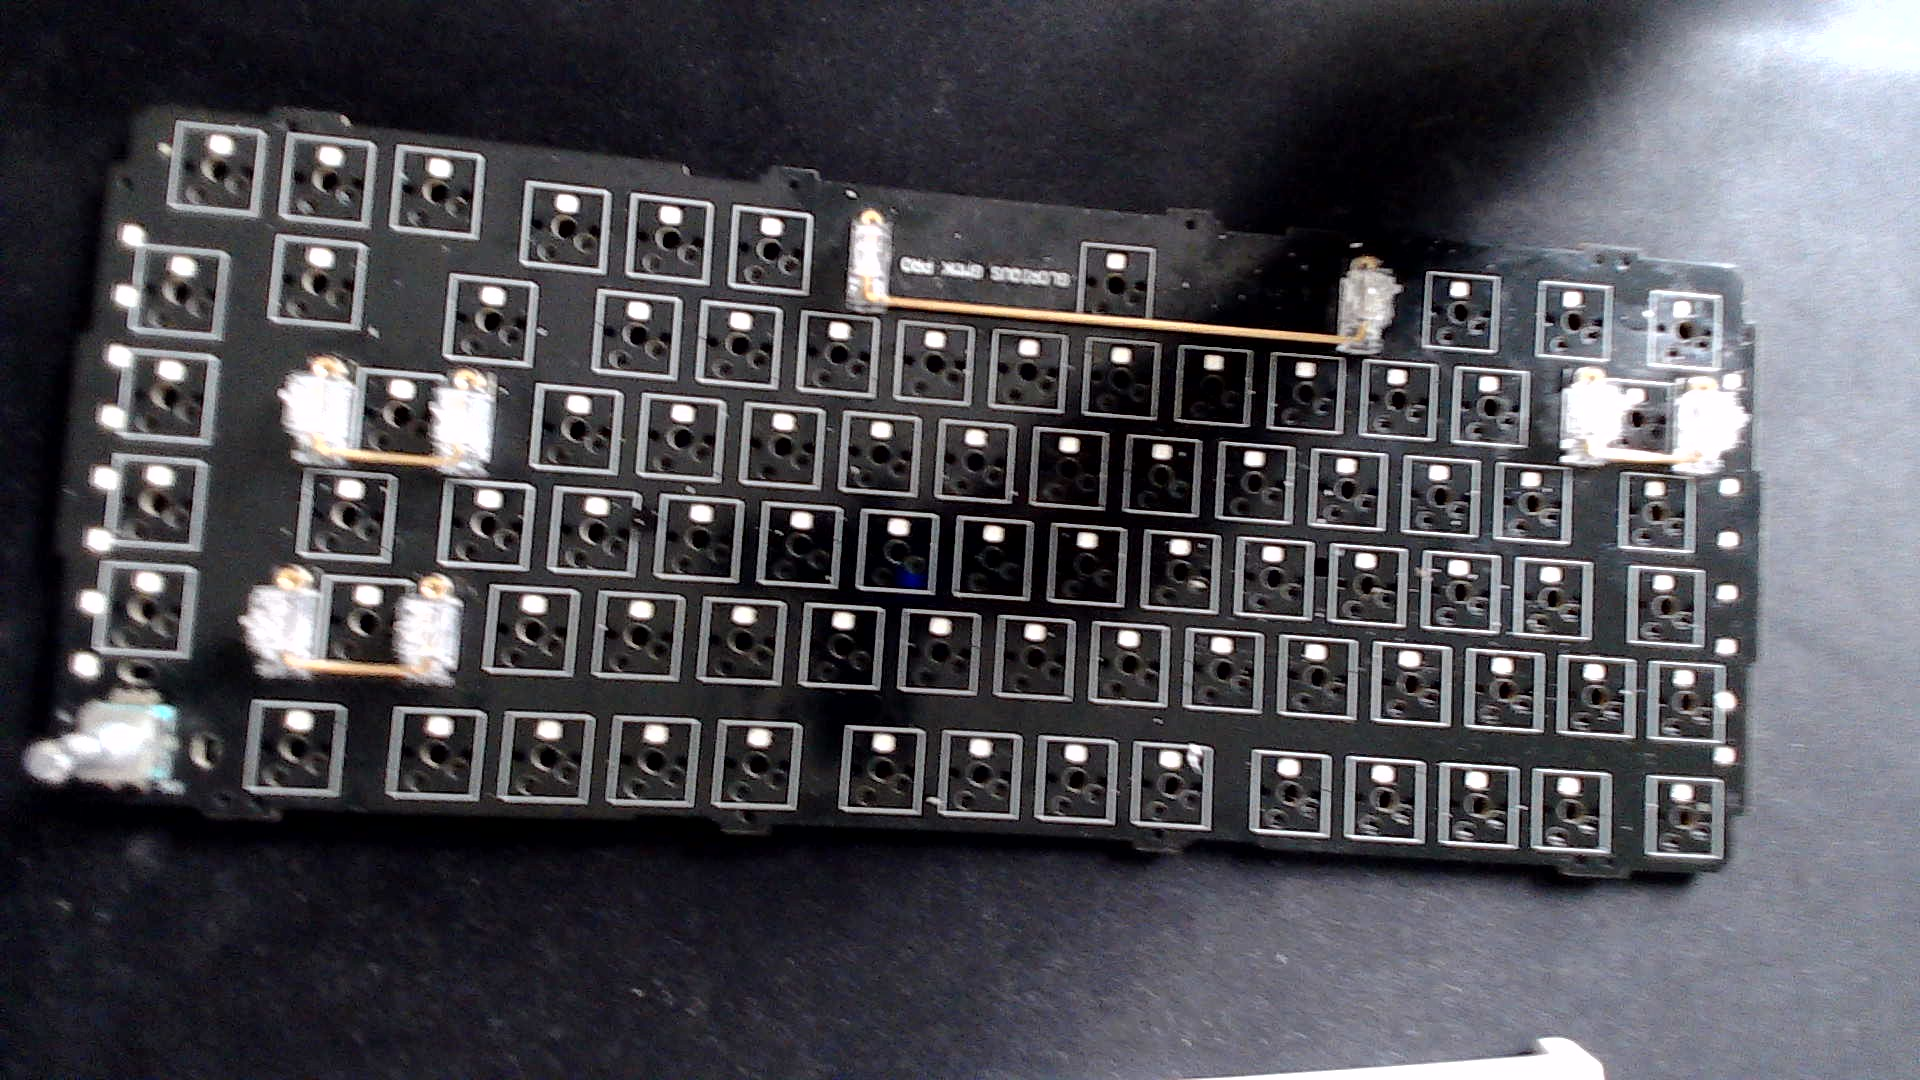pcb: (7, 65, 1787, 935)
